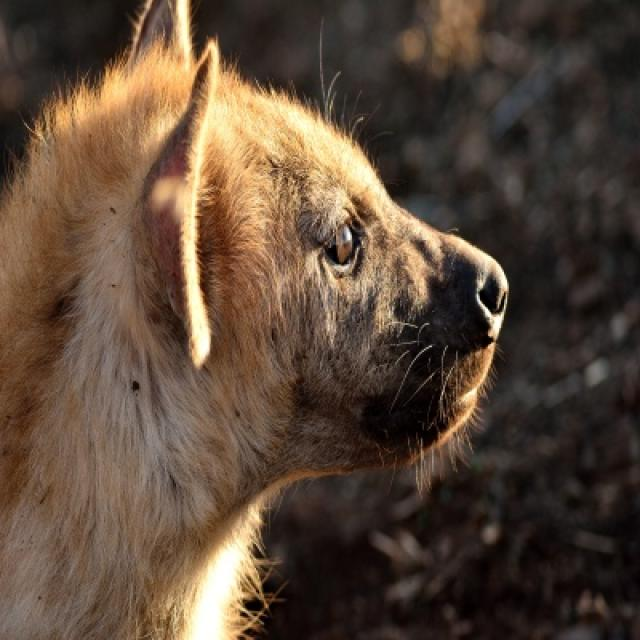hyena: (0, 27, 510, 638)
